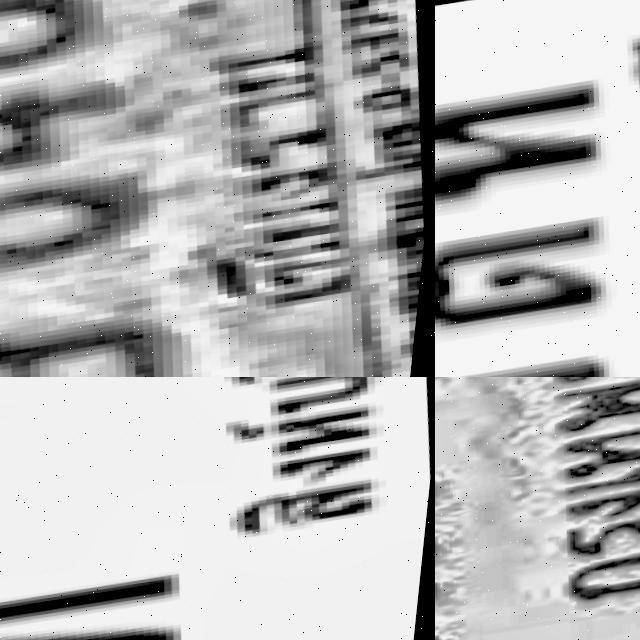license-plate: (0, 0, 435, 377), (0, 377, 435, 640), (435, 0, 640, 377), (435, 377, 640, 640)
